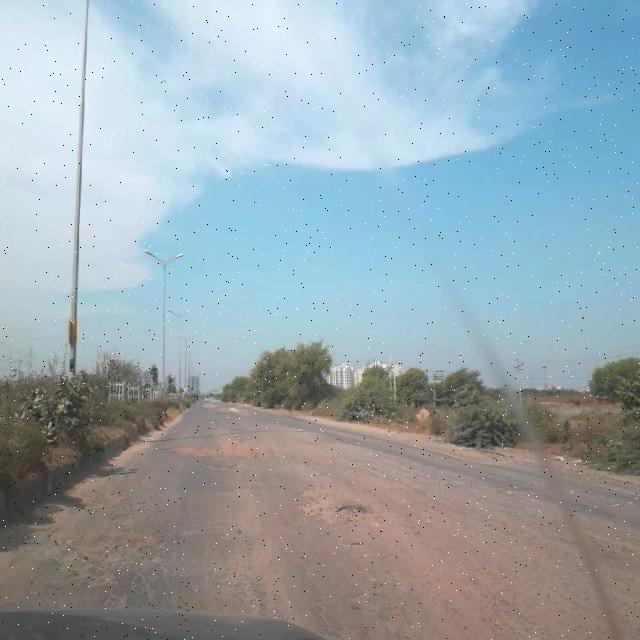D00: (279, 536, 352, 636)
D40: (44, 526, 164, 606), (296, 483, 381, 532), (160, 429, 258, 468), (81, 483, 136, 511)
